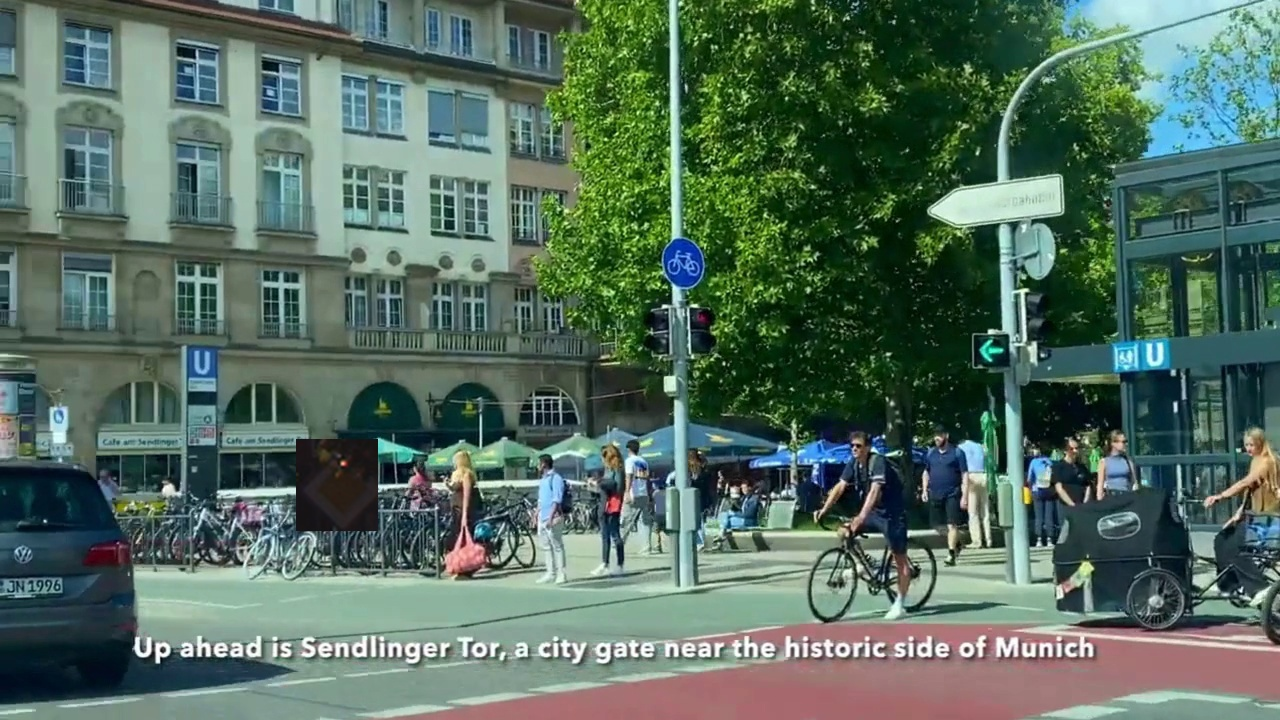Priority road: (296, 439, 378, 531)
